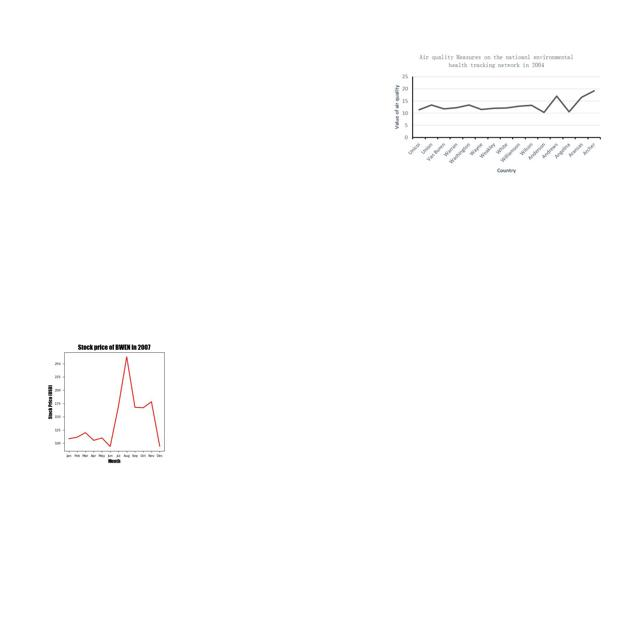Graph: (389, 49, 605, 178), (19, 337, 205, 465)
